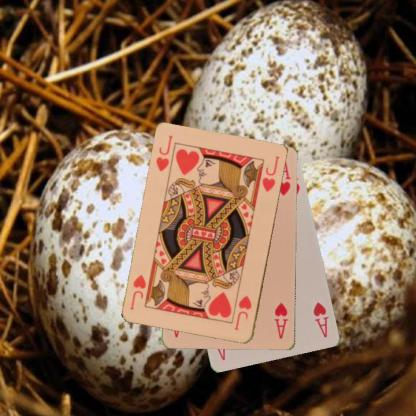Ah: (311, 299, 330, 339), (272, 300, 290, 340)
Jh: (153, 133, 175, 173), (232, 293, 253, 332)
